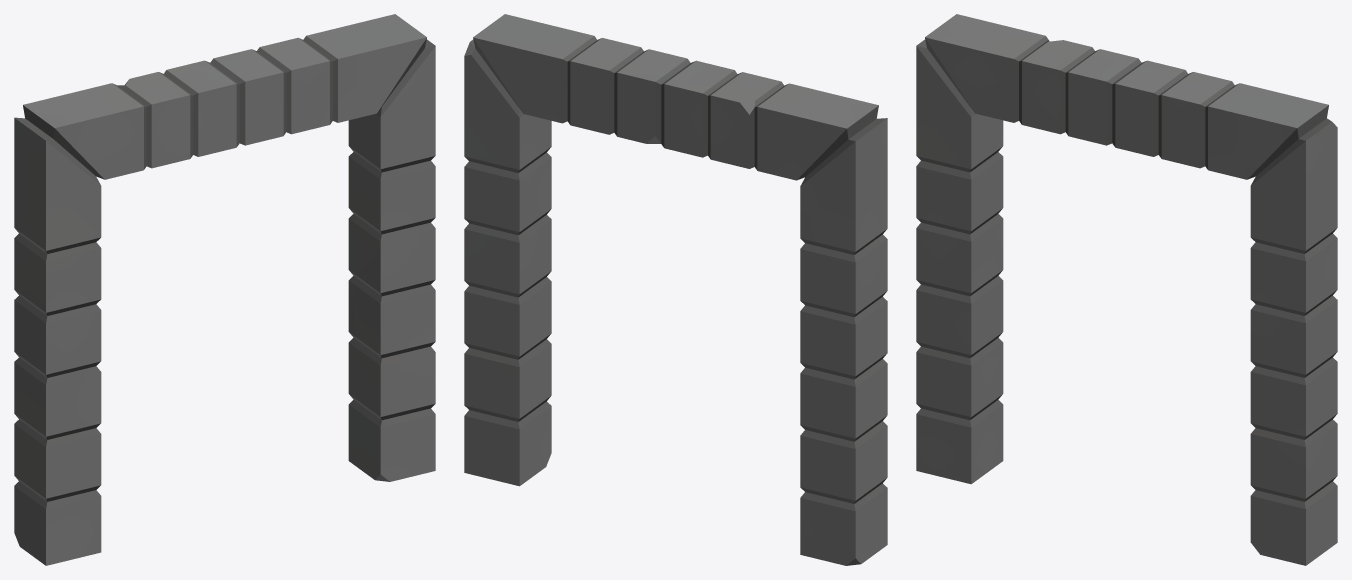
Rendered from Arch_5.fbx.
3 views of the same model, side by side, from view 1: azimuth 30°, elevation 25°; view 2: azimuth 150°, elevation 25°; view 3: azimuth 330°, elevation 25° (orthographic).
Visible parts, largest first — view 1: Arch 5; view 2: Arch 5; view 3: Arch 5.
Boxes of the visible parts, x1,y1,x2,y2 form: Arch 5: [14, 14, 435, 565]; Arch 5: [464, 14, 887, 565]; Arch 5: [916, 14, 1337, 565].
Bounding box in the file's own units: 219 × 234 × 31.04.
